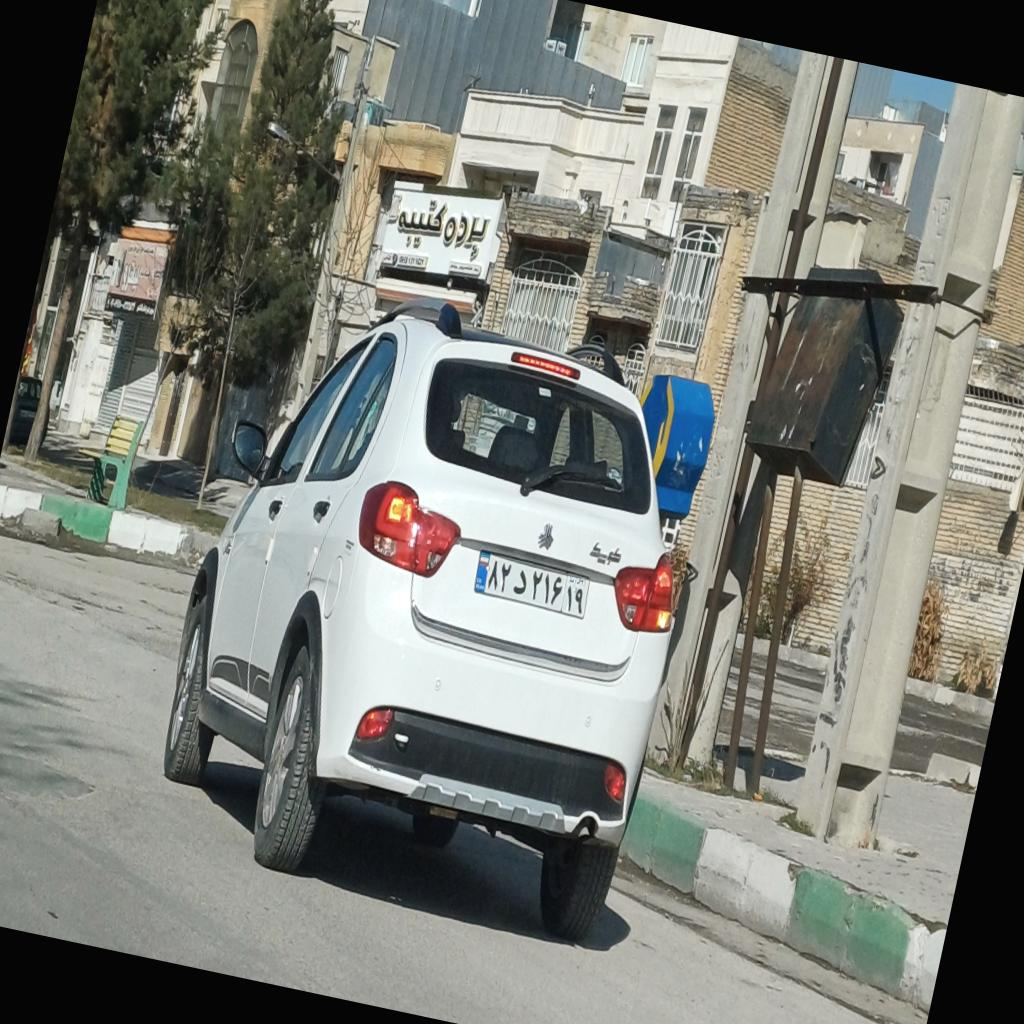Plates: (471, 549, 594, 620)
